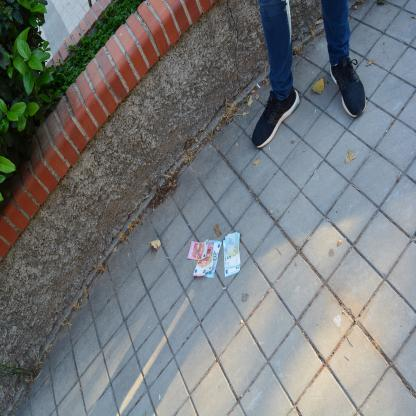billete: (186, 237, 221, 280), (223, 231, 241, 278)
